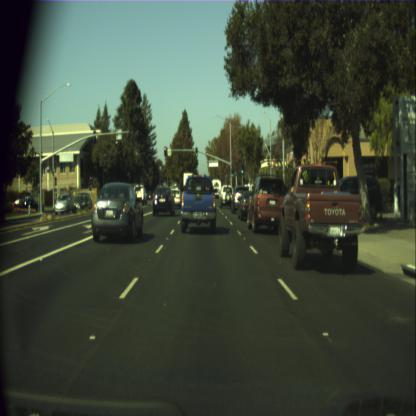Green: (241, 163, 244, 174), (195, 147, 198, 156), (232, 168, 233, 177)
Red: (163, 146, 166, 155)
